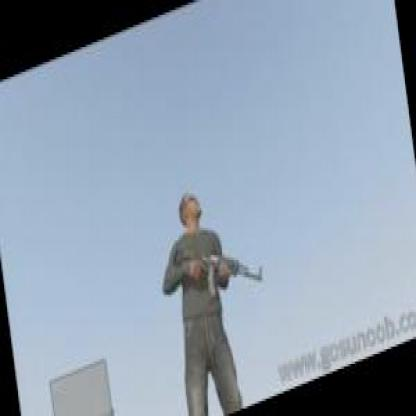rifle: (174, 210, 268, 322)
